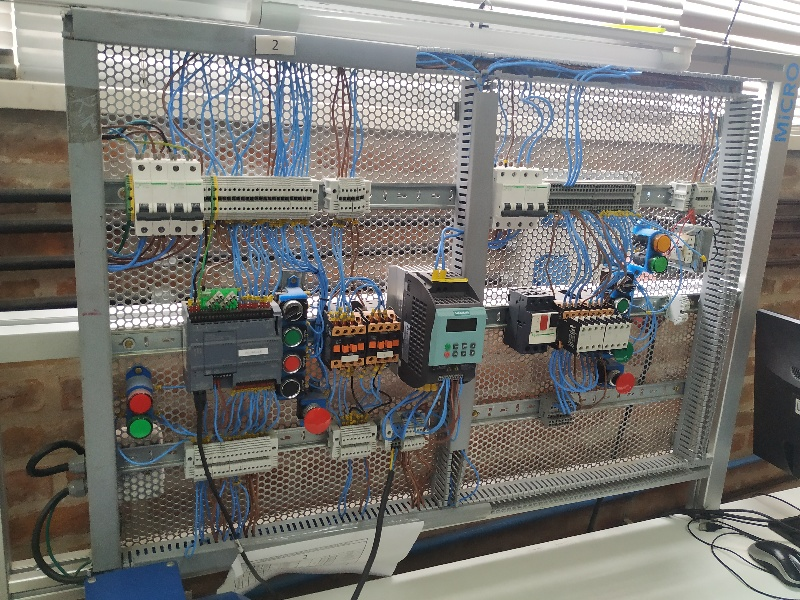Tablero 2: (83, 16, 725, 510)
